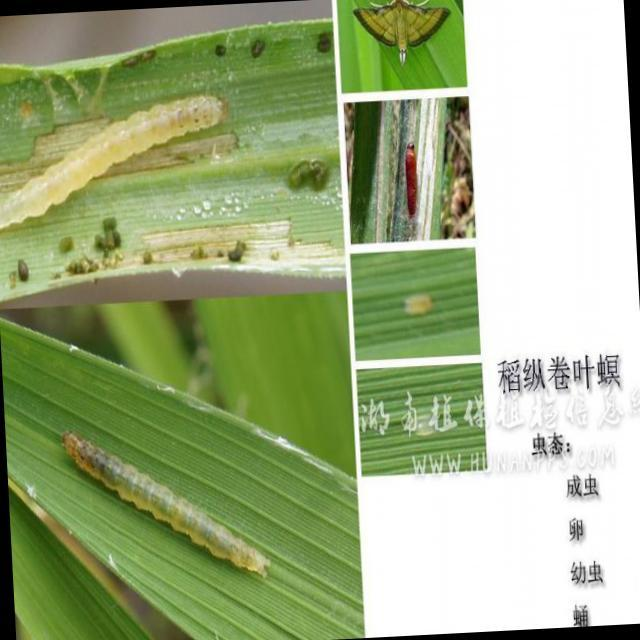leaf folder: (63, 433, 269, 576), (0, 96, 220, 229)
